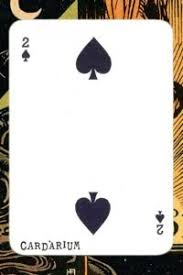two of spades: (7, 19, 173, 254)
